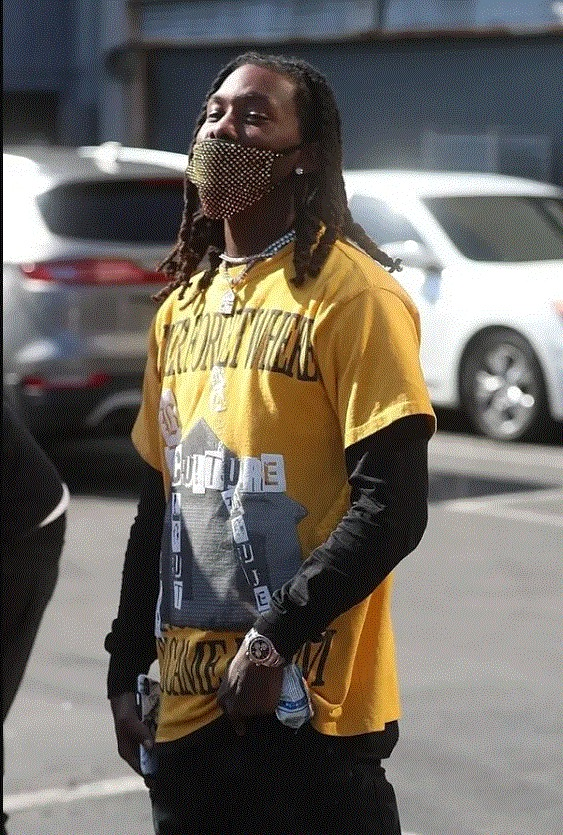mask_weared_incorrect: (184, 88, 291, 179)
